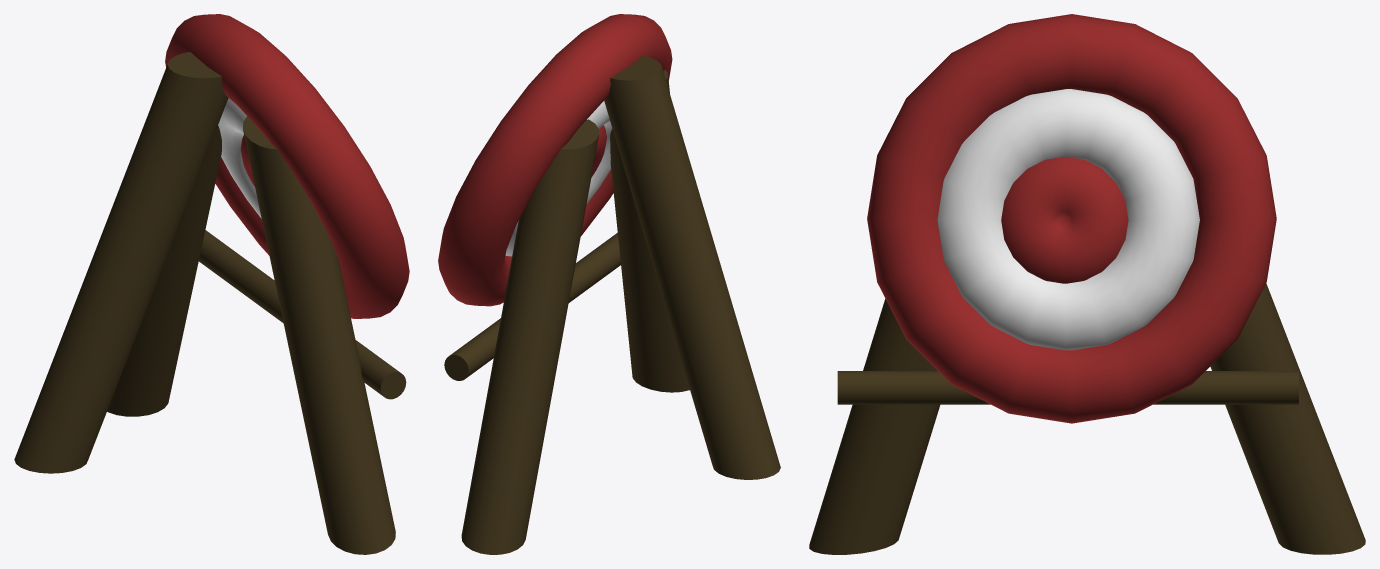
Rendered from Target.fbx.
3 renders of one model, left to right at view 1: azimuth 30°, elevation 25°; view 2: azimuth 150°, elevation 25°; view 3: azimuth 270°, elevation 25°, orthographic. The views are drawn at different scales.
Parts seen in each view (by area): view 1: pasted__pCylinder1; view 2: pasted__pCylinder1; view 3: pasted__pCylinder1.
Part boxes in pixels (bbox=[...]): pasted__pCylinder1: bbox=[14, 14, 409, 554]; pasted__pCylinder1: bbox=[438, 14, 780, 554]; pasted__pCylinder1: bbox=[809, 14, 1365, 554].
Bounding box in the file's own units: 5.49 × 7.27 × 7.
